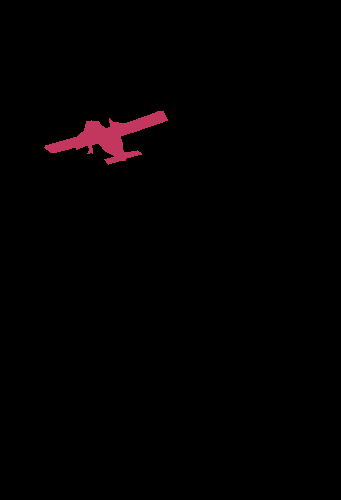Airplane: (44, 111, 168, 164)
